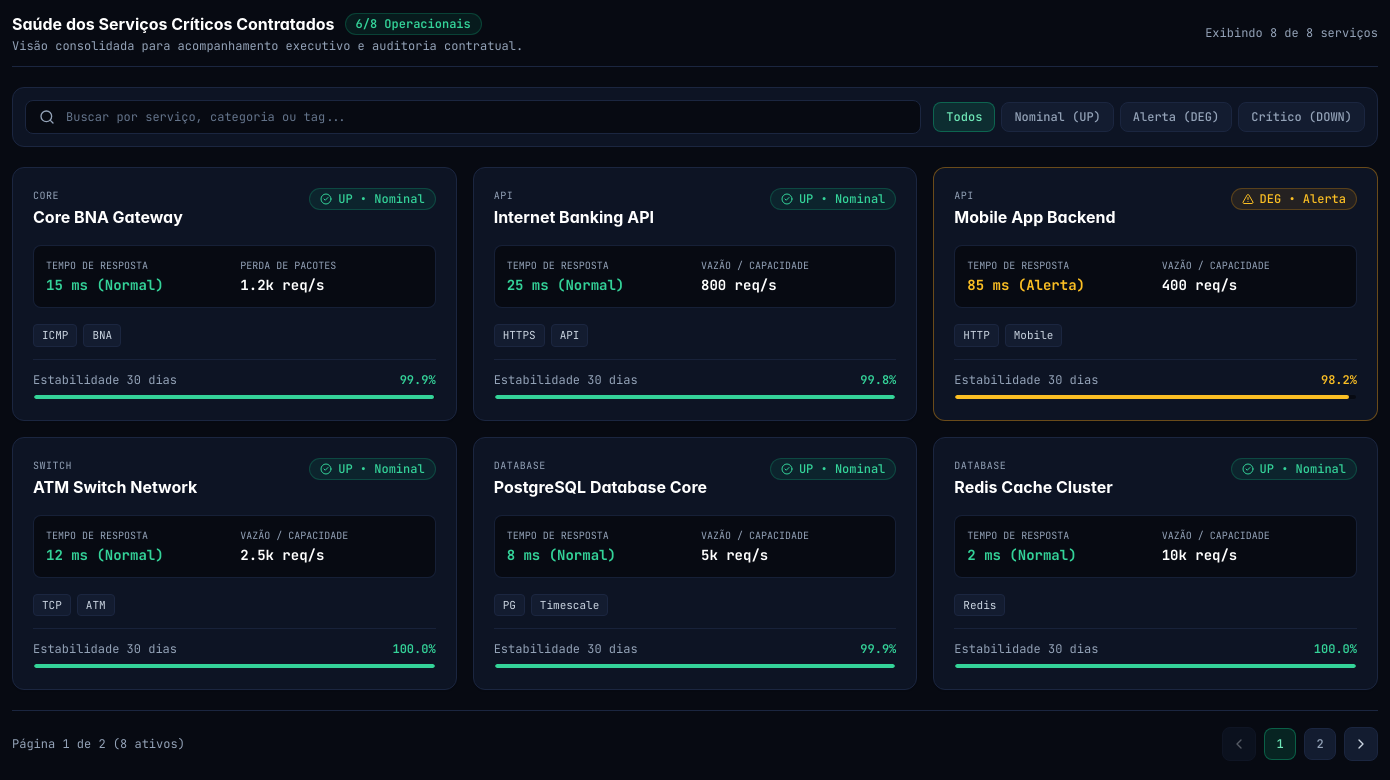
Portal do Cliente - SanitizedServicesGrid (Busca e Paginação) › deve filtrar serviços em tempo real pelo campo de busca
Type "Mobile" into the field with test id "services-search-input".
click(473, 117); type("Mobile")  # box [25,100,921,134]
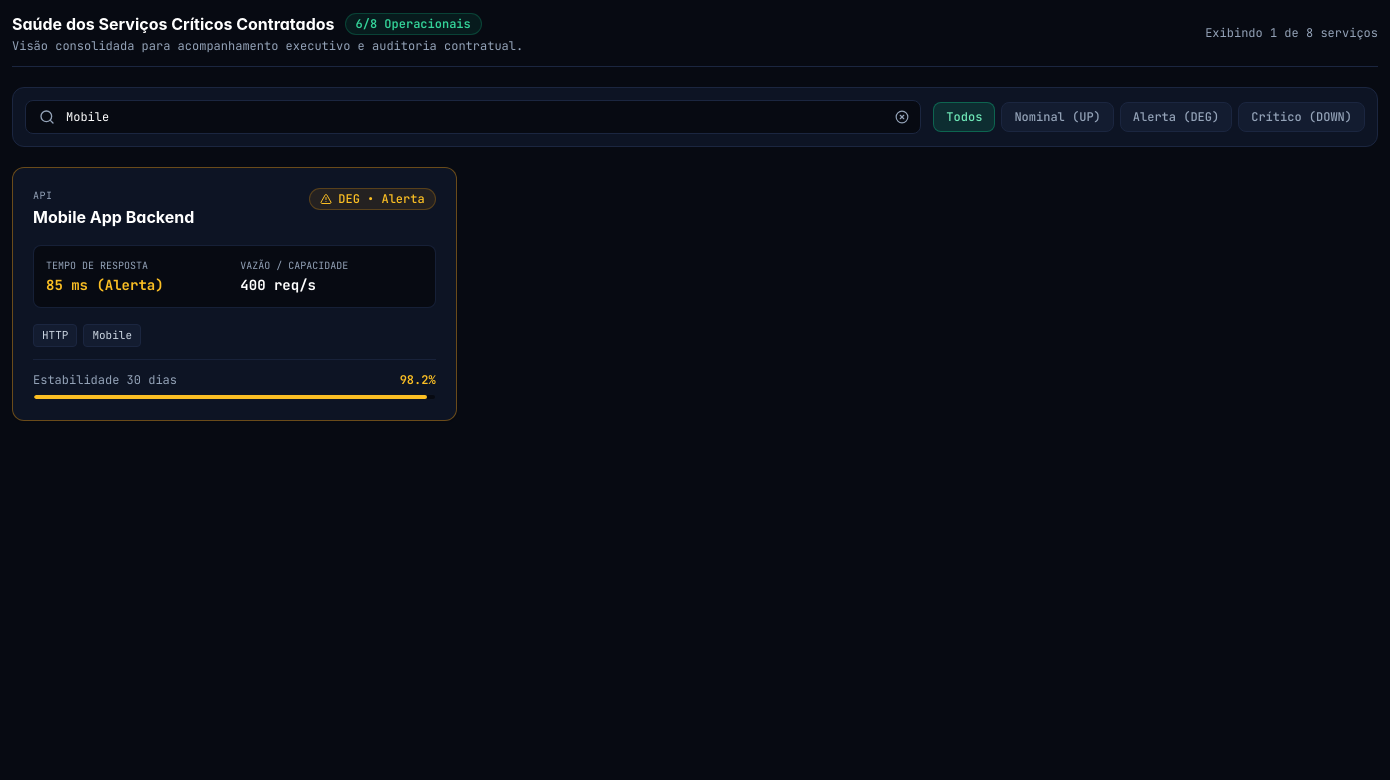
Expected: the heading "Mobile App Backend" is shown, [33,205,194,229]
Now the heading "Core BNA Gateway" is gone
Now the text "Exibindo 1 de 8 serviços" is shown, box [1205,25,1378,41]
